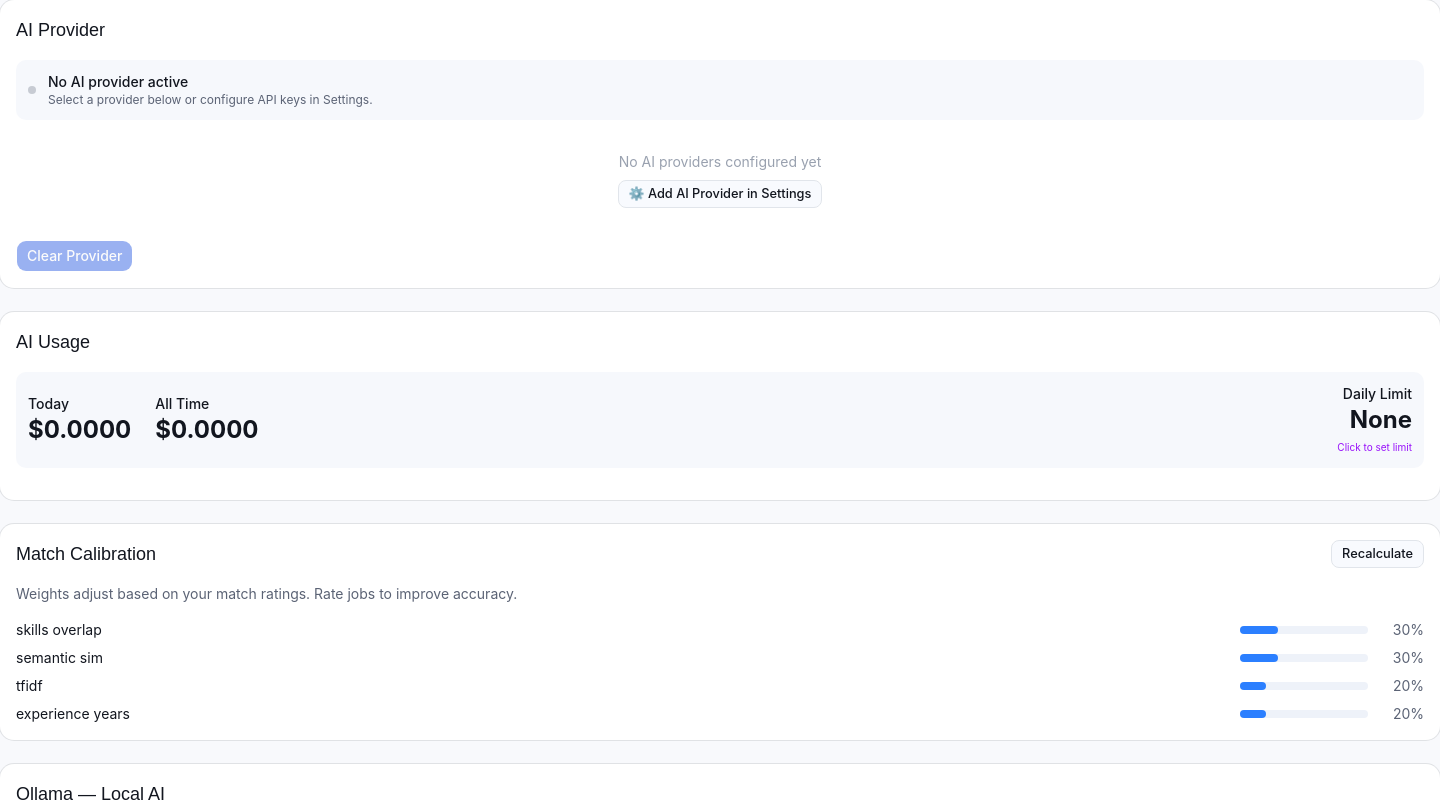
Scenario: Workflow: Match calibration › renders default weights and updates after Recalculate
Check: the text "Match Calibration" is shown, box [16,540,156,568]
Click the button "Recalculate" at (1378, 554), box [1331,540,1424,568]
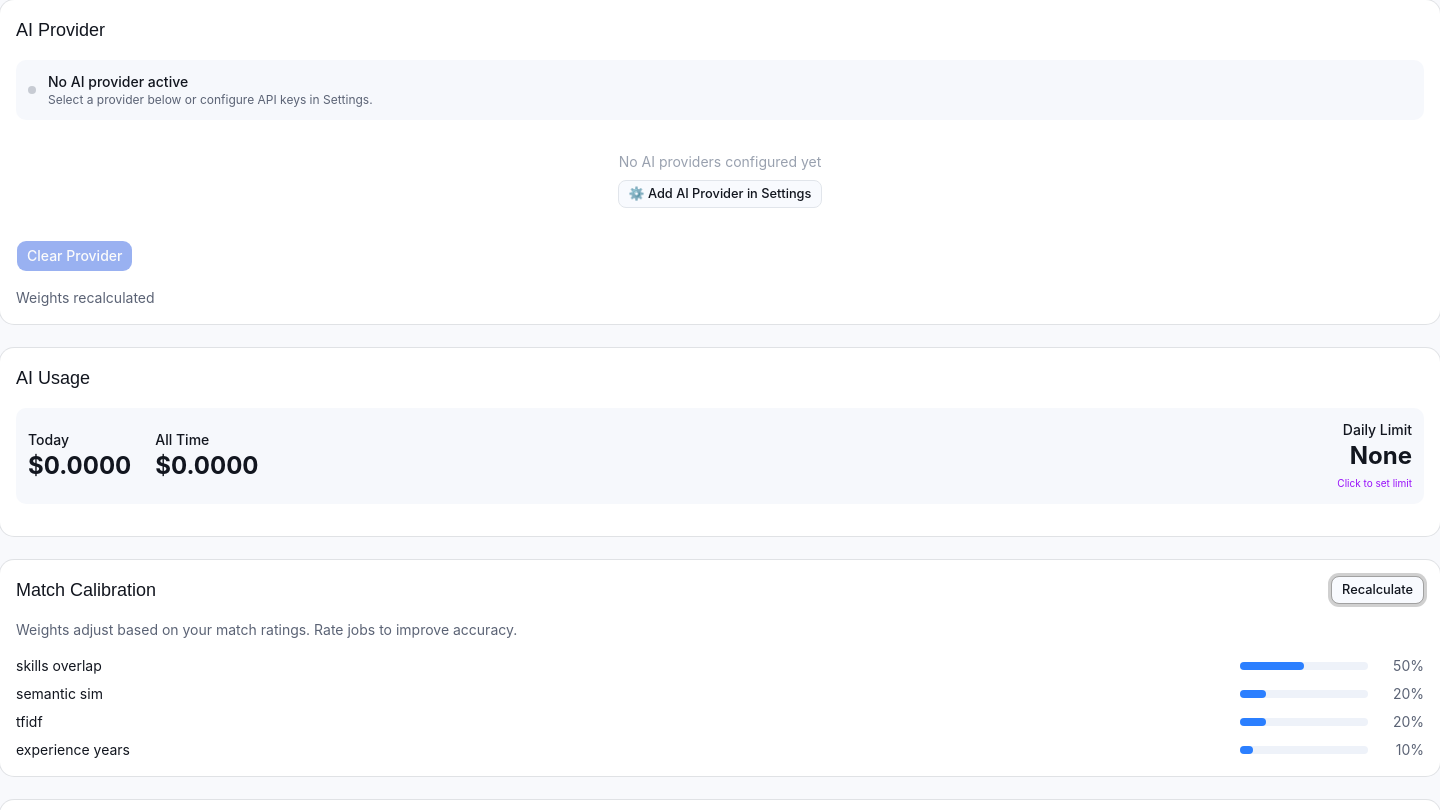
Check: the text "50%" is shown, box [1393,657,1424,674]
Check: the text "Weights recalculated" is shown, box [16,289,155,306]
